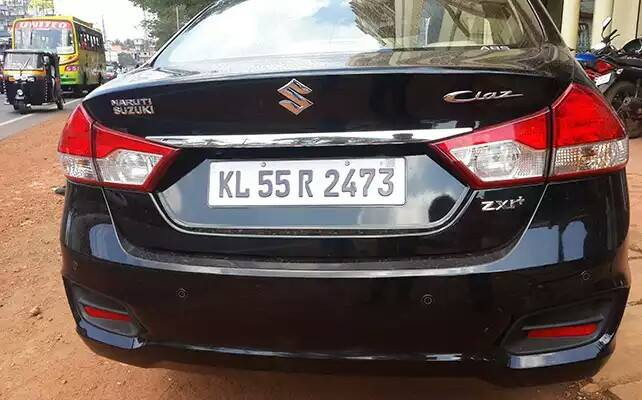numberPlate: (210, 161, 406, 203)
